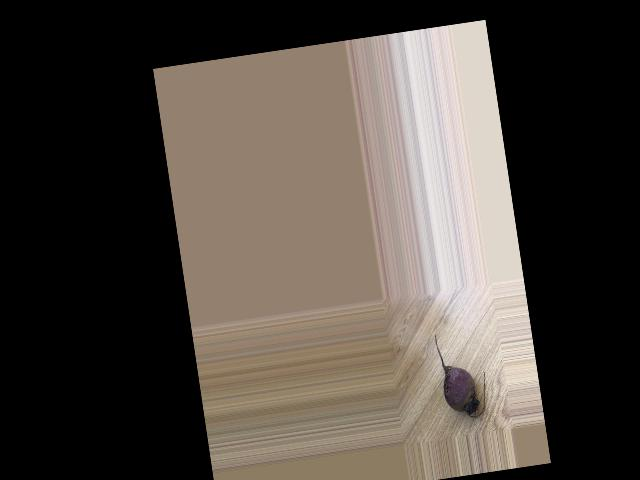beet: (434, 327, 490, 421)
